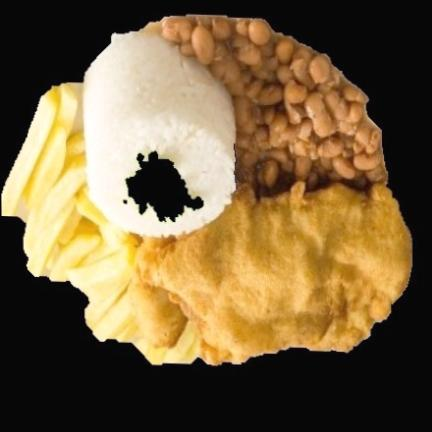beans: (162, 18, 384, 190)
chicken: (130, 182, 411, 364)
potato: (1, 84, 166, 364)
rice: (82, 33, 235, 237)
